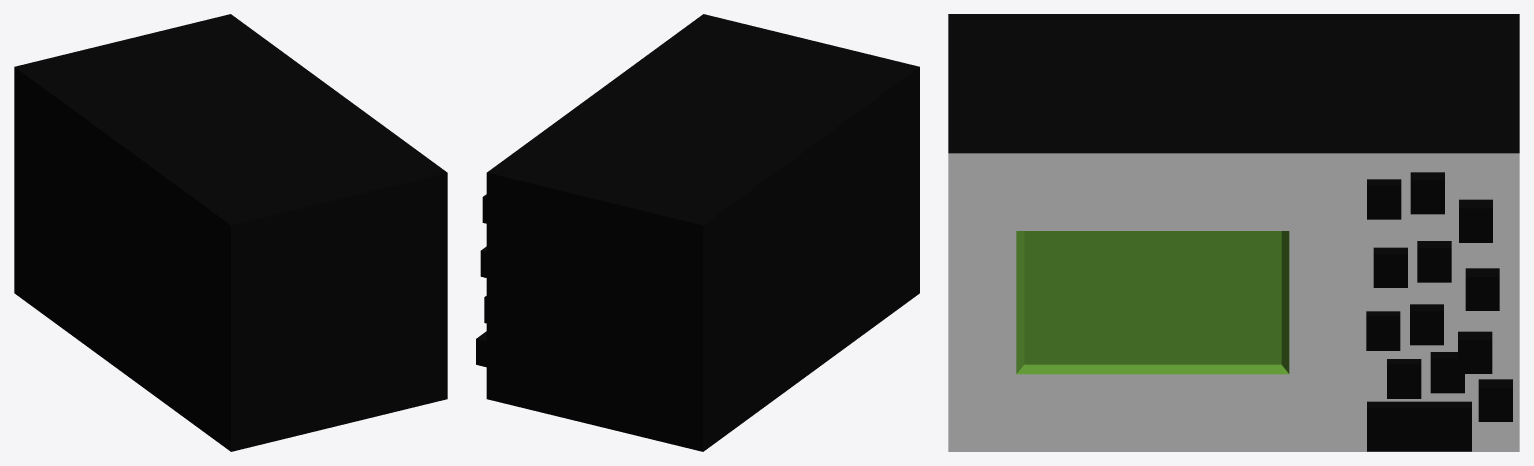
The model's file is microwave.glb.
The picture shows the model from 3 angles, left to right: view 1: azimuth 30°, elevation 25°; view 2: azimuth 150°, elevation 25°; view 3: azimuth 270°, elevation 25°; orthographic projection. The views are drawn at different scales.
Parts seen in each view (by area): view 1: Cube.003; view 2: Cube.003; view 3: Cube.003.
Boxes of the visible parts, x1,y1,x2,y2 form: Cube.003: (14,14,447,451); Cube.003: (476,14,919,451); Cube.003: (948,14,1519,451).
Size of the model in its own units: 6.39 by 6 by 10.4.
